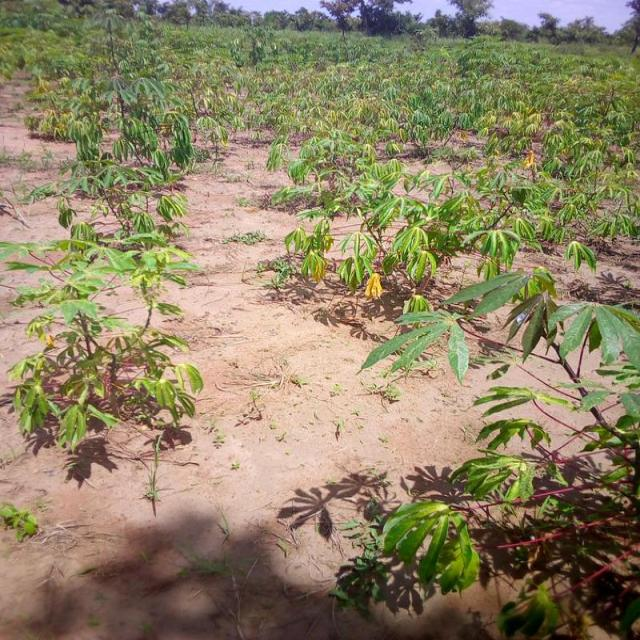cassava leaf: (381, 499, 480, 595)
